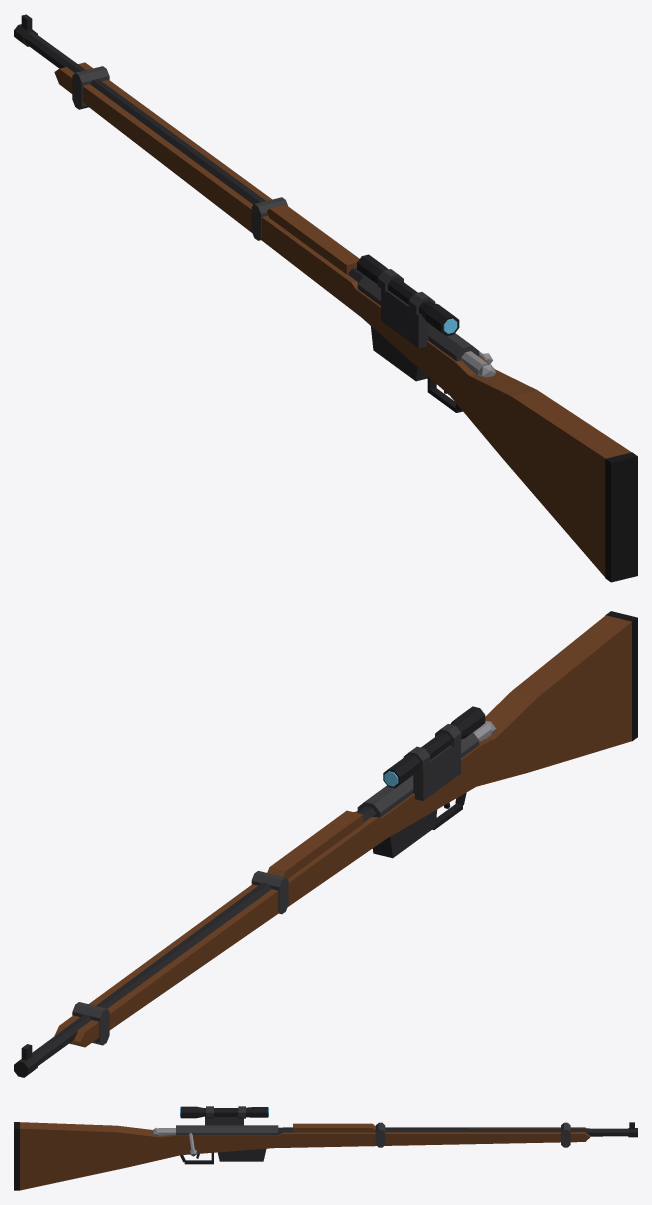
The model's file is Relic.glb.
The picture shows the model from 3 angles, top to bottom: view 1: azimuth 30°, elevation 25°; view 2: azimuth 150°, elevation 25°; view 3: azimuth 270°, elevation 25°; orthographic projection. The views are drawn at different scales.
Visible parts, largest first — view 1: Stock, Pad, Barrel, Mount, Scope, Accent, Body, Magazine; view 2: Stock, Barrel, Mount, Scope, Accent, Body, Magazine, Pad; view 3: Stock, Barrel, Body, Scope, Mount, Magazine, Accent, Pad, Bolt, Trigger.
Part boxes in pixels (bbox=[...]): Stock: bbox=[54, 62, 631, 577]; Pad: bbox=[605, 452, 637, 582]; Barrel: bbox=[24, 32, 364, 283]; Mount: bbox=[377, 269, 435, 348]; Scope: bbox=[357, 254, 459, 336]; Accent: bbox=[72, 66, 287, 240]; Body: bbox=[357, 275, 479, 361]; Magazine: bbox=[371, 326, 427, 381]; Stock: bbox=[54, 615, 631, 1047]; Barrel: bbox=[32, 806, 376, 1065]; Mount: bbox=[403, 724, 461, 800]; Scope: bbox=[383, 706, 485, 788]; Accent: bbox=[72, 871, 288, 1045]; Body: bbox=[357, 732, 479, 817]; Magazine: bbox=[372, 810, 437, 858]; Pad: bbox=[605, 611, 637, 741]; Stock: bbox=[20, 1122, 590, 1190]; Barrel: bbox=[278, 1127, 628, 1136]; Body: bbox=[176, 1125, 278, 1135]; Scope: bbox=[180, 1106, 268, 1118]; Mount: bbox=[205, 1106, 245, 1125]; Magazine: bbox=[217, 1148, 266, 1161]; Accent: bbox=[375, 1122, 570, 1147]; Pad: bbox=[14, 1122, 19, 1190]; Bolt: bbox=[152, 1127, 196, 1156]; Trigger: bbox=[180, 1152, 213, 1164].
Bounding box in the file's own units: 0.3839 × 0.8682 × 6.4.
